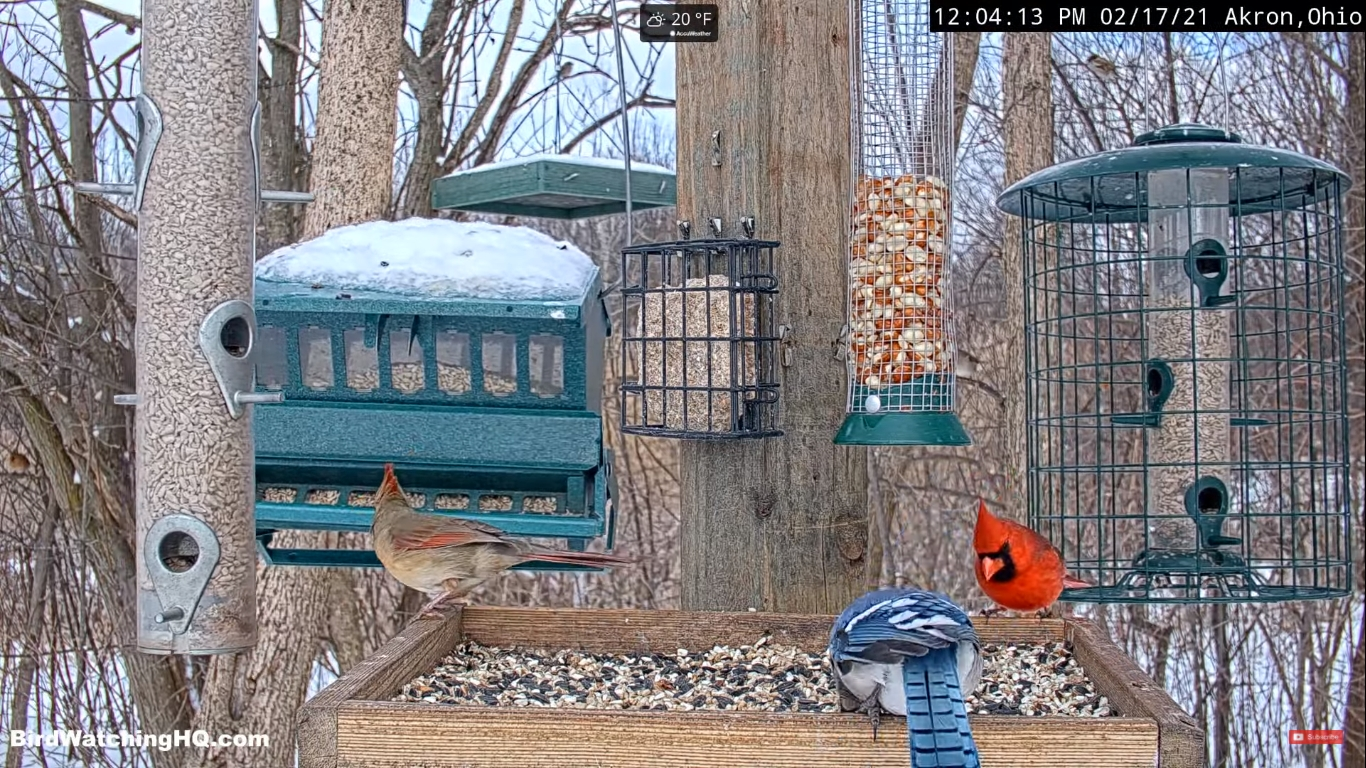bird: (371, 463, 635, 620), (827, 585, 982, 768), (974, 495, 1090, 623)
